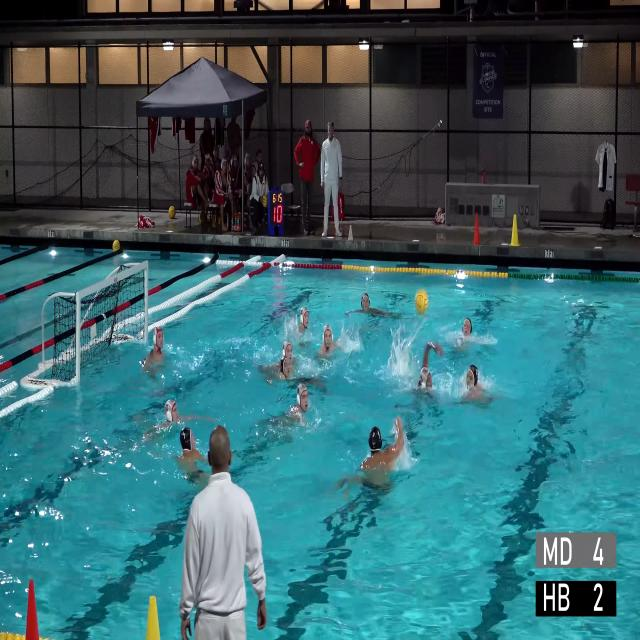ball: (415, 290, 428, 314), (168, 206, 176, 218), (113, 239, 120, 252), (199, 211, 206, 224), (263, 194, 267, 207)
